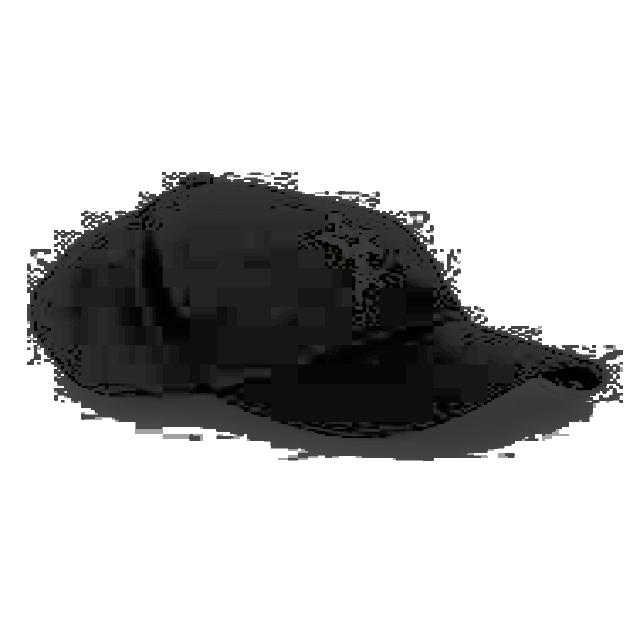TOPI: (23, 136, 640, 460)
